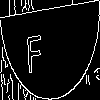F: (25, 25, 44, 74)
